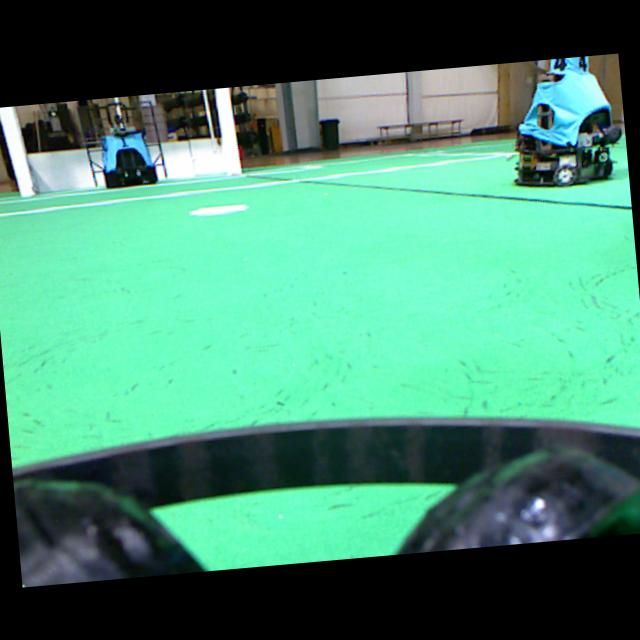goal: (0, 106, 34, 196), (214, 87, 240, 174)
